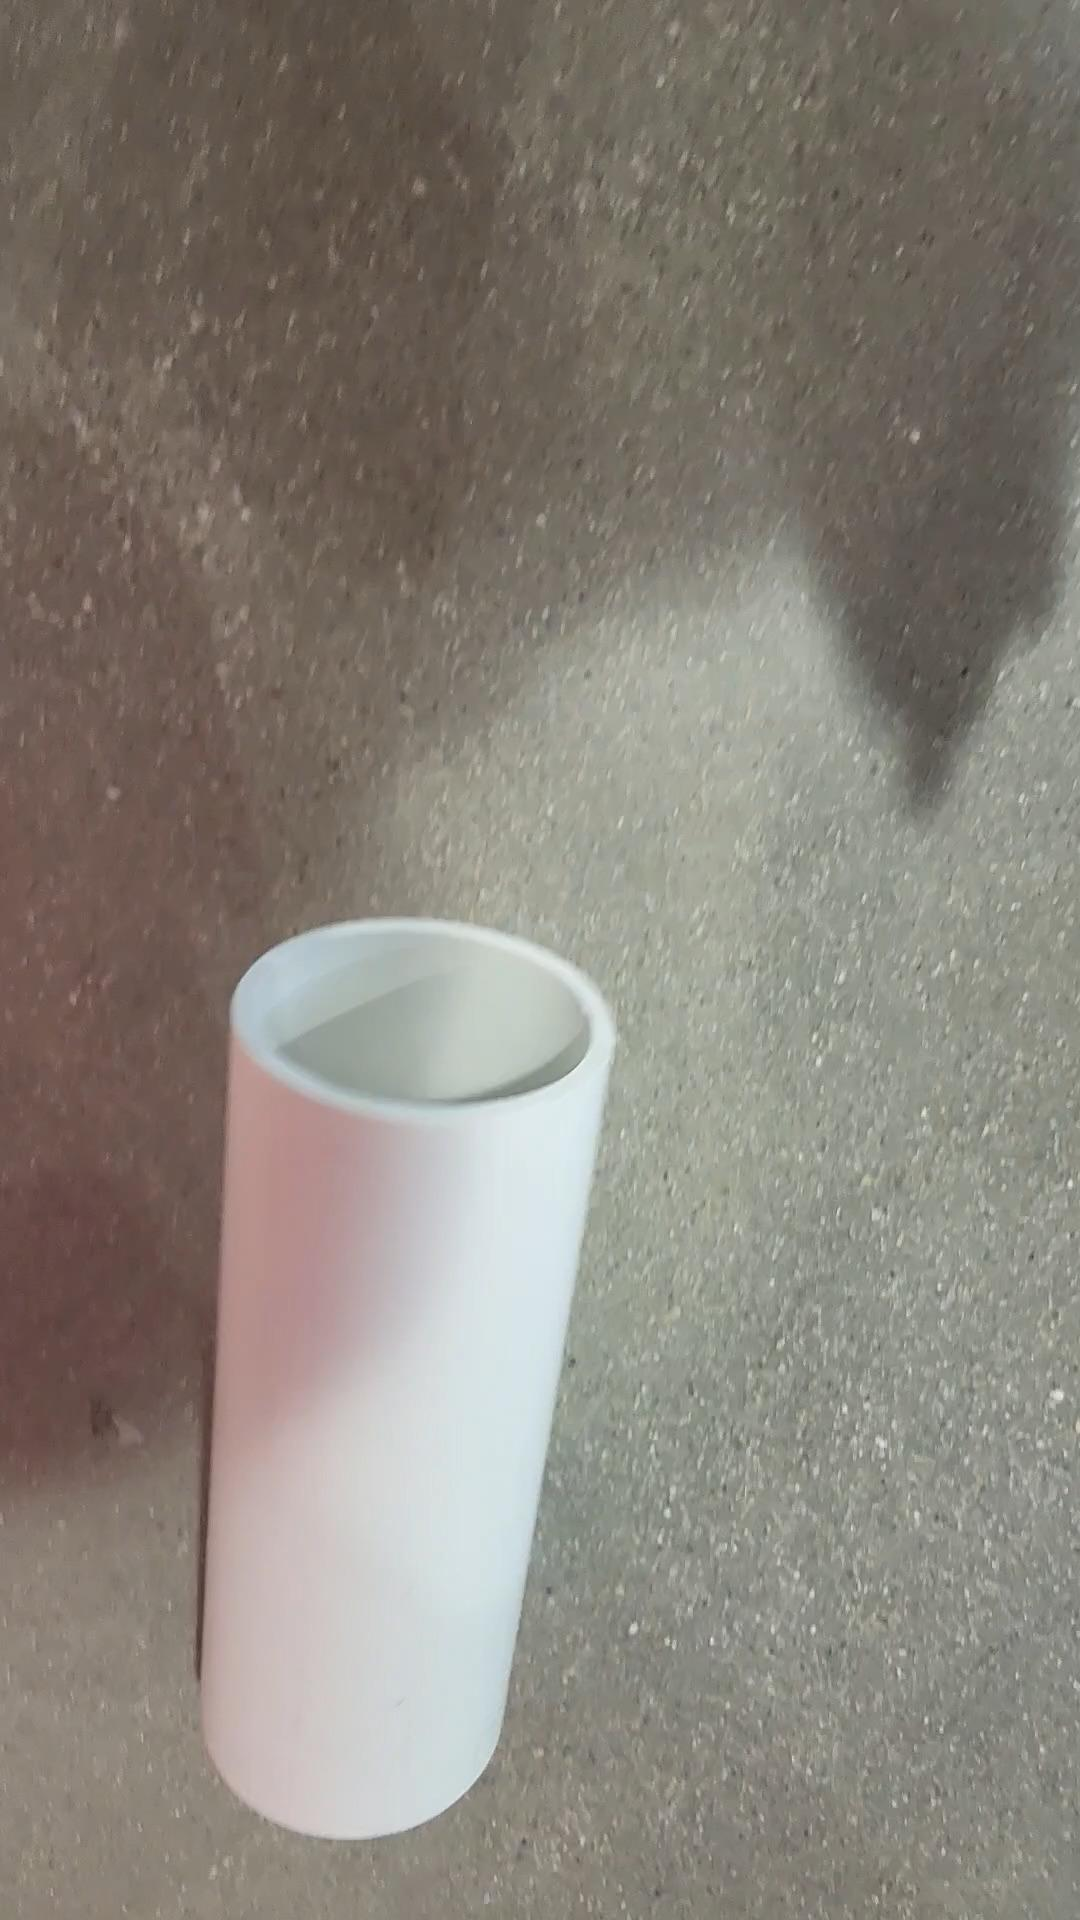coral: (193, 918, 611, 1836)
